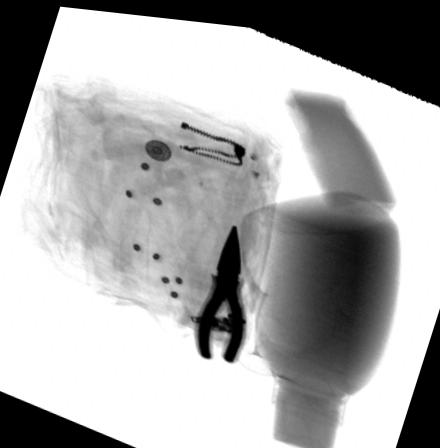Pliers: (190, 216, 249, 358)
